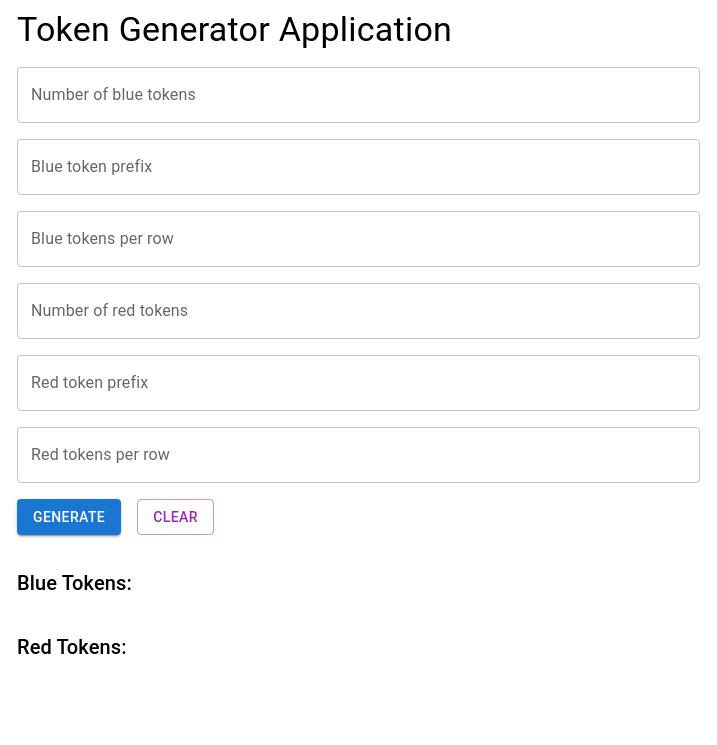
Test: TokenGenerator Component › displays validation error if fields are left empty
The image size is (717, 745).
# Click the generate button without entering any values
Step 1. Click the button "Generate" → (69, 517), box [17,499,121,536]
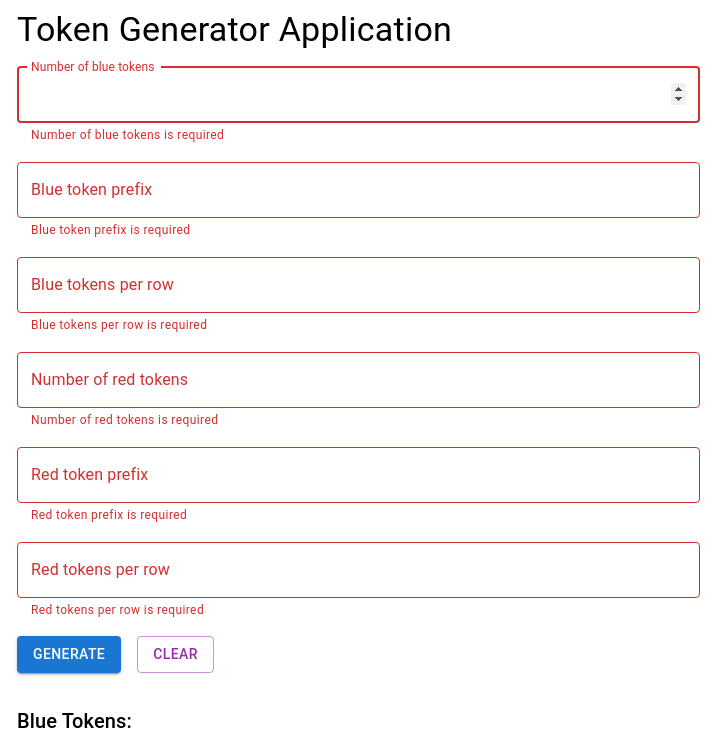
expect the text "Number of blue tokens is required" is shown: met, box [31,128,224,142]
expect the text "Blue token prefix is required" is shown: met, box [31,223,190,237]
expect the text "Blue tokens per row is required" is shown: met, box [31,318,207,332]
